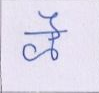ai_matra: (39, 10, 61, 30)
